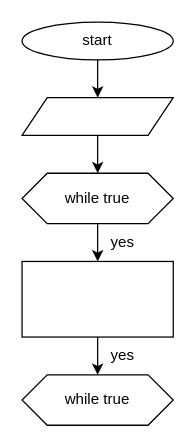
This 195x447 diagram has some shape labels left out. The box of each missing label's shape, as (x1, y1, x2, y2) in pixels:
init all: (21, 96, 173, 135)
uint32 local0 uint32 local1: (21, 260, 173, 337)
